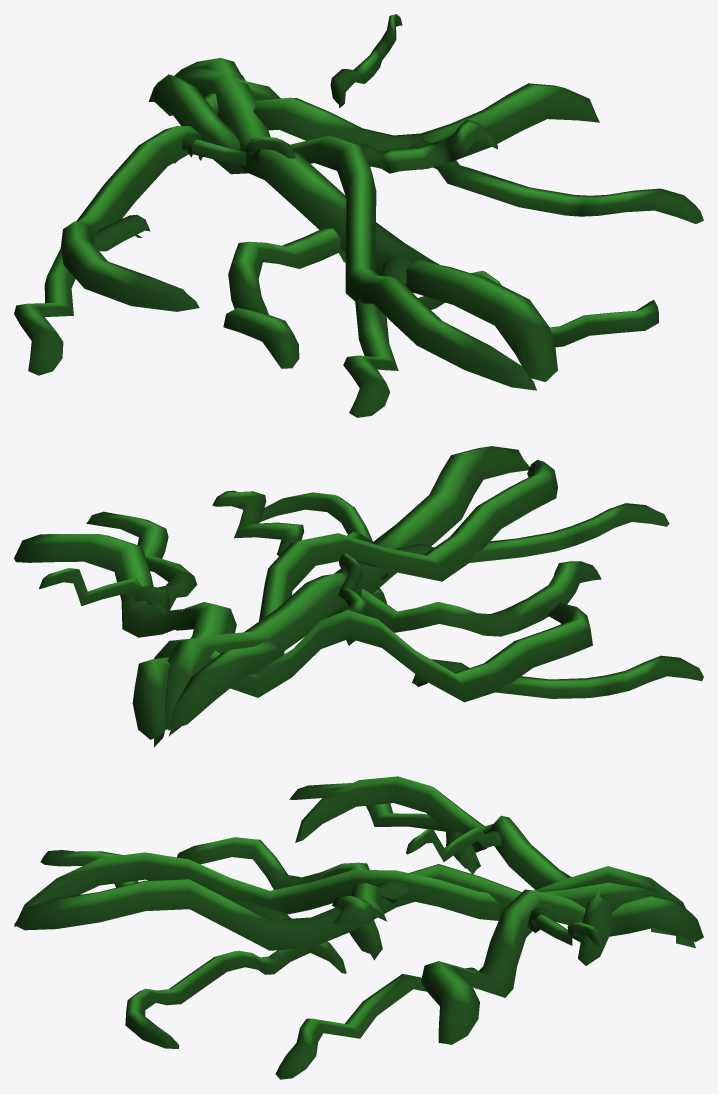
File: Vine3.fbx
3 views of the same model, one above another, from view 1: azimuth 30°, elevation 25°; view 2: azimuth 150°, elevation 25°; view 3: azimuth 270°, elevation 25° (orthographic). The views are drawn at different scales.
Visible parts, largest first — view 1: pCube157; view 2: pCube157; view 3: pCube157.
Boxes of the visible parts, bbox=[...] form: pCube157: bbox=[14, 14, 703, 417]; pCube157: bbox=[14, 446, 703, 747]; pCube157: bbox=[14, 776, 703, 1079].
Bounding box in the file's own units: 132 × 25.8 × 135.
